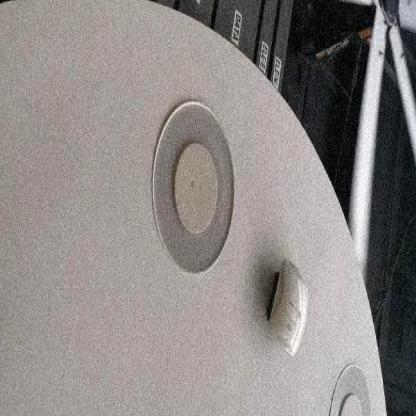light_off: (140, 64, 246, 293)
